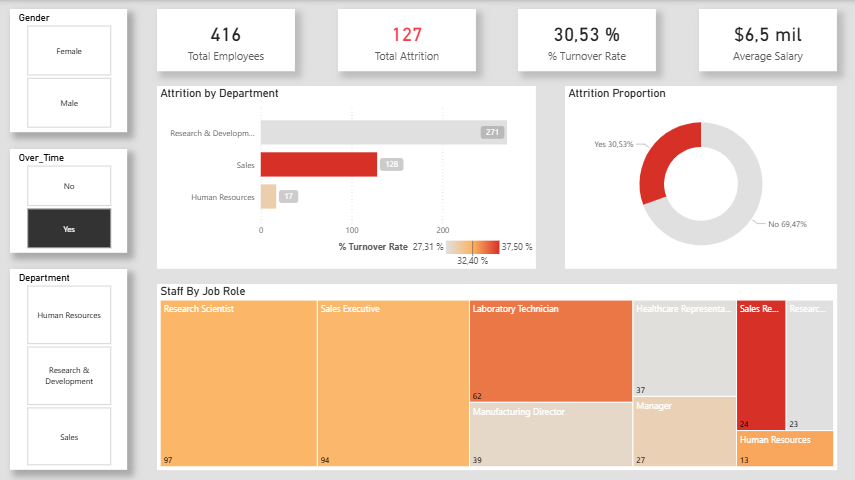

Layout of this report page (visuals, bound fields, positions):
{"tool":"powerbi","page":{"name":"Talent summary","canvas":[1280,720],"ordinal":0},"visuals":[{"type":"slicer","fields":{"Values":["Dim_JobDetails.Department"]},"box":[14.9,401.8,174.8,300.2],"z":0},{"type":"card","title":"Total Empoyees","fields":{"Values":["_Measures.Total Employees"]},"box":[234.5,13.4,205.8,92.6],"z":1000,"group":"g1"},{"type":"clusteredBarChart","title":"Attrition by Department","fields":{"Category":["Dim_JobDetails.Department"],"Y":["_Measures.Total Employees"]},"box":[233.8,128.5,566.1,273.4],"z":1000},{"type":"card","fields":{"Values":["_Measures.Total Attrition"]},"box":[504.5,13.4,205.8,92.6],"z":2000,"group":"g1"},{"type":"treemap","title":"Staff By Job Role","fields":{"Group":["Dim_JobDetails.Job_Role"],"Values":["_Measures.Total Employees"]},"box":[234.5,424.2,1015.8,277.8],"z":2000},{"type":"card","fields":{"Values":["_Measures.% Turnover Rate"]},"box":[774.5,13.4,205.8,92.6],"z":3000,"group":"g1"},{"type":"donutChart","title":"Attrition Proportion","fields":{"Category":["Fact_Attrition.Attrition"],"Y":["_Measures.Total Employees"]},"box":[844,128.5,406.3,273.4],"z":3000},{"type":"slicer","fields":{"Values":["Dim_Employee.Gender"]},"box":[14.9,13.4,174.8,183.7],"z":4000},{"type":"card","fields":{"Values":["_Measures.Average Salary"]},"box":[1044.5,13.4,205.8,92.6],"z":4000,"group":"g1"},{"type":"slicer","fields":{"Values":["Dim_Satisfaction.Over_Time"]},"box":[14.9,221.8,174.8,155.4],"z":5000},{"type":"group","id":"g1","title":"Grupo 1","box":[234.5,13.4,1015.8,92.6],"z":6000}]}

Visuals, with their boxes in screenshot pixels (x1, y1, x2, y2), scaled from the page's 1280x720 canvas onto the 855x480 screenshot:
slicer - Dim_JobDetails.Department: locate(10, 268, 127, 468)
"Total Empoyees" card: locate(157, 9, 294, 71)
"Attrition by Department" clusteredBarChart: locate(156, 86, 534, 268)
card - _Measures.Total Attrition: locate(337, 9, 474, 71)
"Staff By Job Role" treemap: locate(157, 283, 835, 468)
card - _Measures.% Turnover Rate: locate(517, 9, 655, 71)
"Attrition Proportion" donutChart: locate(564, 86, 835, 268)
slicer - Dim_Employee.Gender: locate(10, 9, 127, 131)
card - _Measures.Average Salary: locate(698, 9, 835, 71)
slicer - Dim_Satisfaction.Over_Time: locate(10, 148, 127, 251)
"Grupo 1" group: locate(157, 9, 835, 71)
